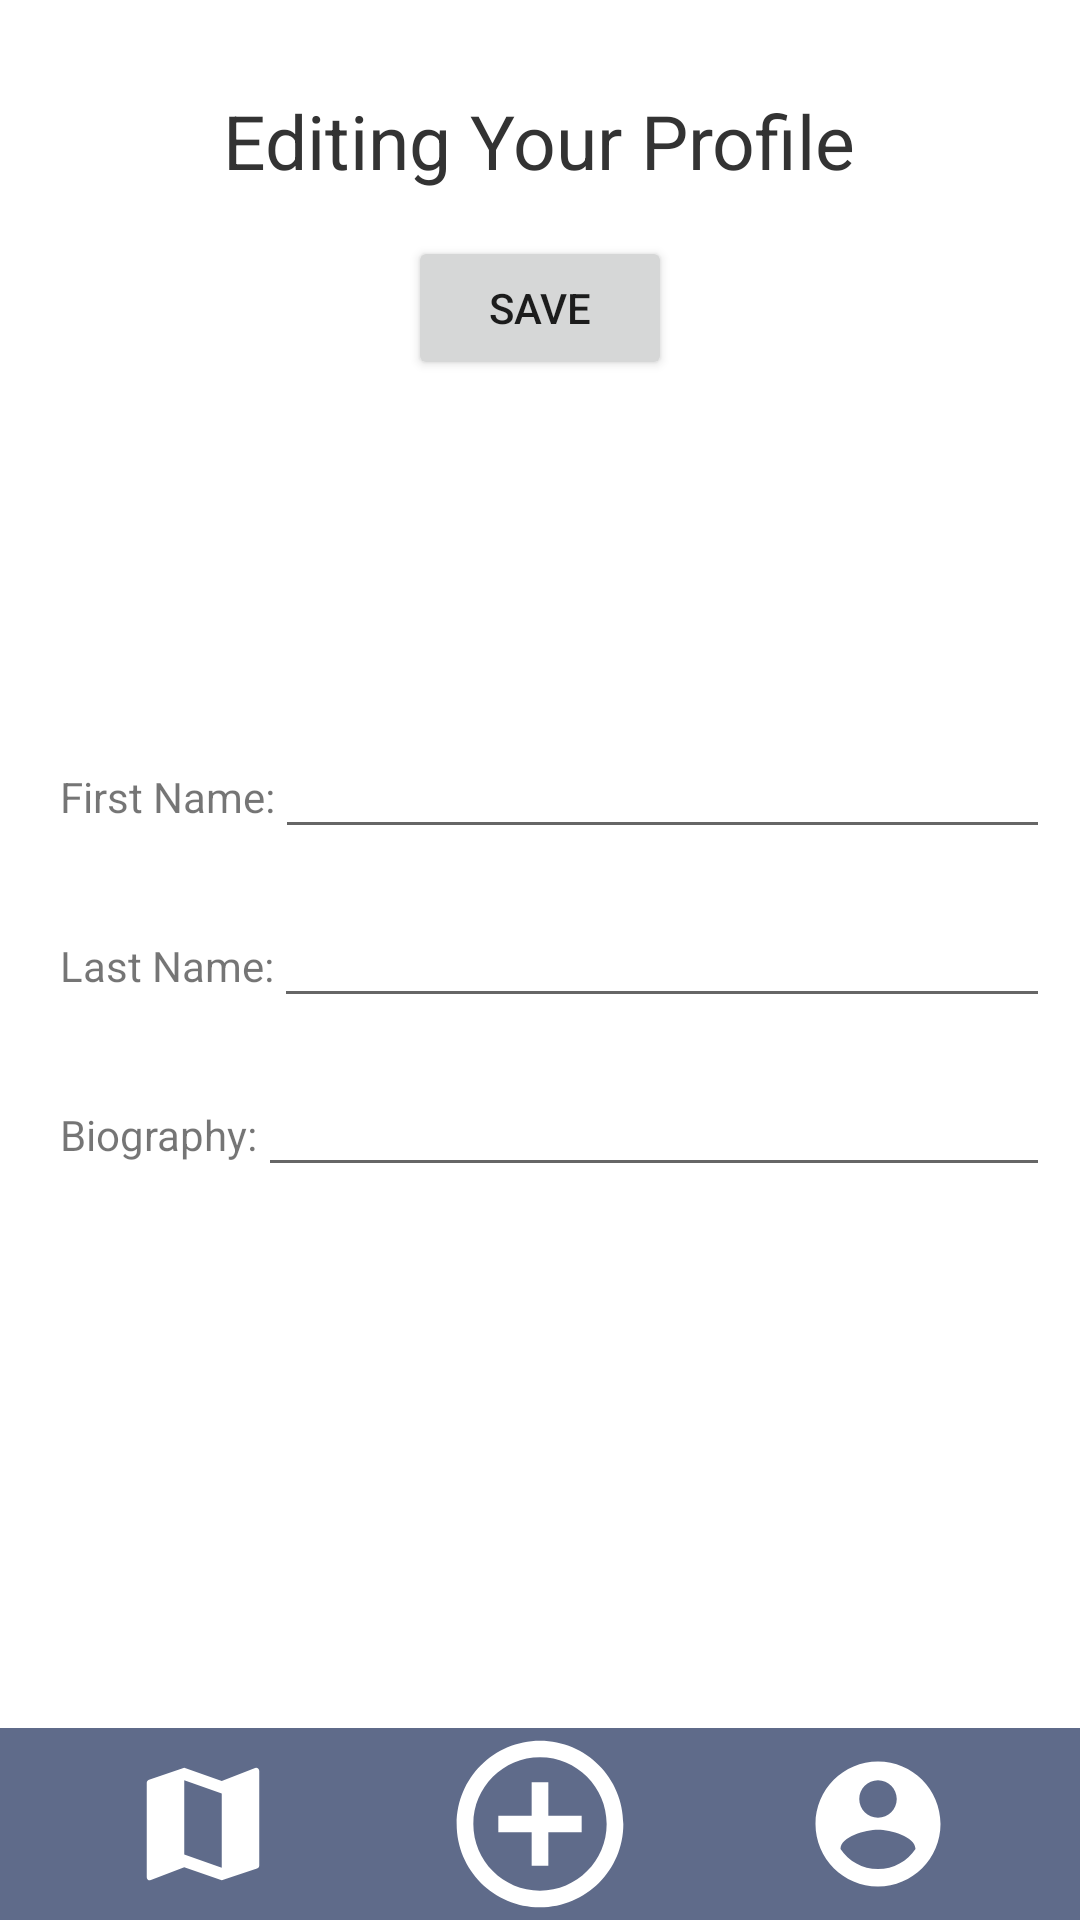

Screen size 1080w x 1920h. Icon name, then its center in pixels as (x,y):
create request: (540,1824)
profile: (878,1824)
